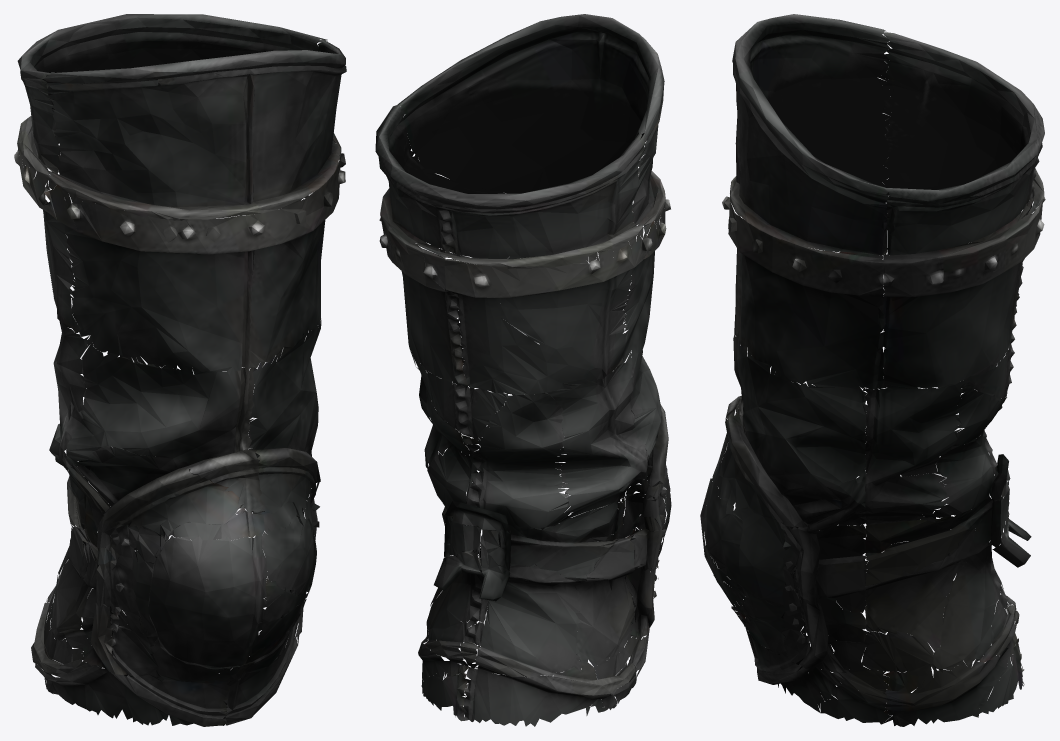
File: a_black_greaves_L.glb
3 renders of one model, left to right at view 1: azimuth 30°, elevation 25°; view 2: azimuth 150°, elevation 25°; view 3: azimuth 270°, elevation 25°, orthographic. The views are drawn at different scales.
Visible parts, largest first — view 1: geometry_0.001; view 2: geometry_0.001; view 3: geometry_0.001.
Boxes of the visible parts, left/top/right/bottom form: geometry_0.001: left=14, top=14, right=346, bottom=726; geometry_0.001: left=375, top=14, right=671, bottom=726; geometry_0.001: left=700, top=14, right=1045, bottom=726.
Bounding box in the file's own units: 0.1412 × 0.319 × 0.1561.
1 material, 1 textured.
